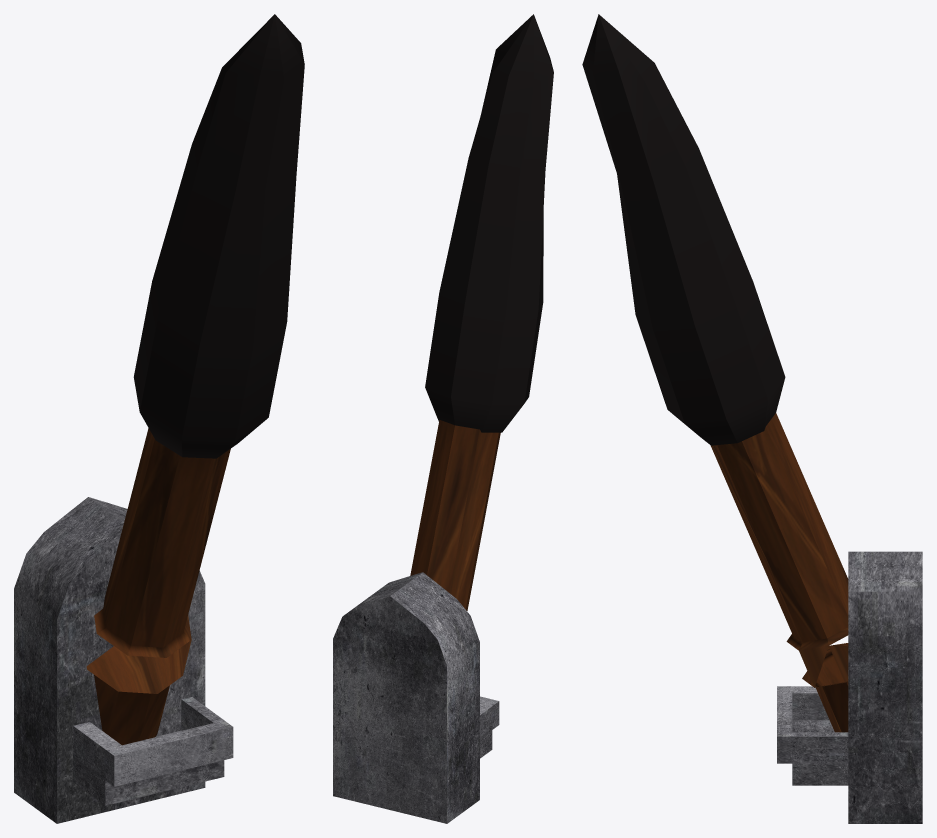
File: torch.fbx
The picture shows the model from 3 angles, left to right: view 1: azimuth 30°, elevation 25°; view 2: azimuth 150°, elevation 25°; view 3: azimuth 270°, elevation 25°; orthographic projection. The views are drawn at different scales.
Visible parts, largest first — view 1: pCylinder3; view 2: pCylinder3; view 3: pCylinder3.
Boxes of the visible parts, box(x1,y1,x2,y2) form: pCylinder3: box(14, 14, 304, 823); pCylinder3: box(333, 14, 553, 823); pCylinder3: box(582, 14, 922, 823).
Bounding box in the file's own units: 20 × 116 × 45.8.
